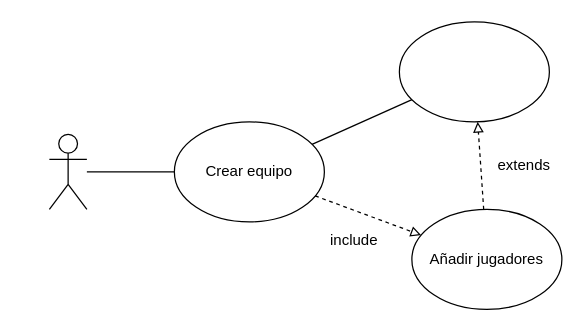
Image size: 584x331. Some labels were removed from this diagram. Here are the shapes that lost their labels. From the top down, the box of each, then its label:
(398, 21, 549, 122): Consultar lista de equipos y jugadores
(48, 133, 87, 209): Administrador
